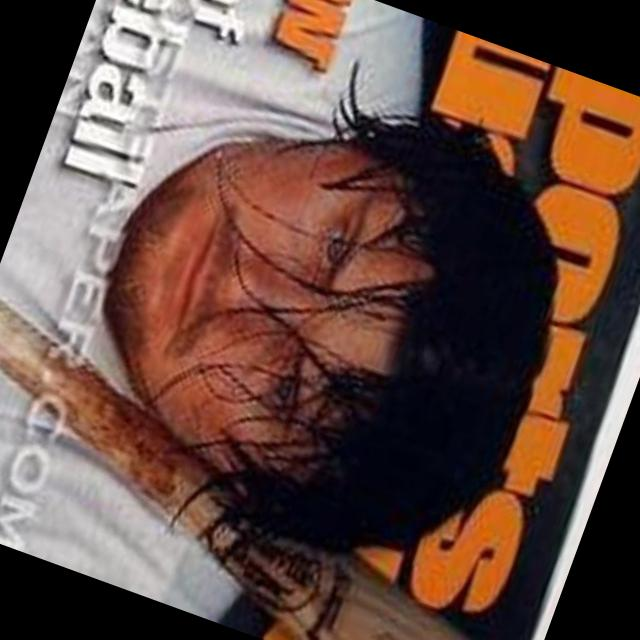bareface: (67, 97, 582, 543)
